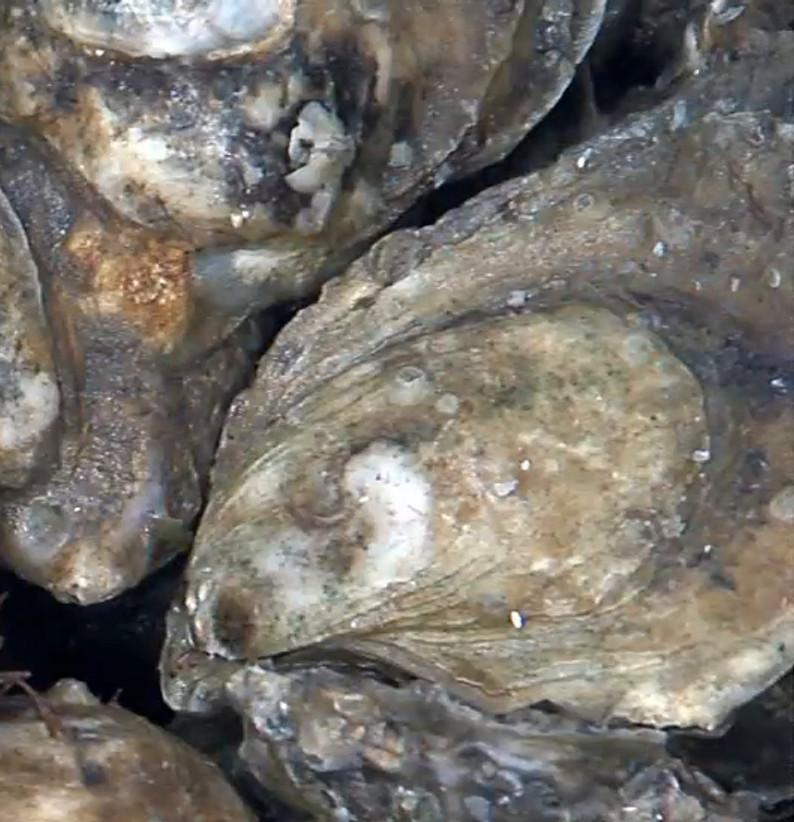Oyster-Closed: (160, 103, 794, 740), (0, 128, 352, 600), (0, 0, 609, 253), (229, 657, 765, 822), (0, 683, 254, 822), (0, 193, 62, 488)
